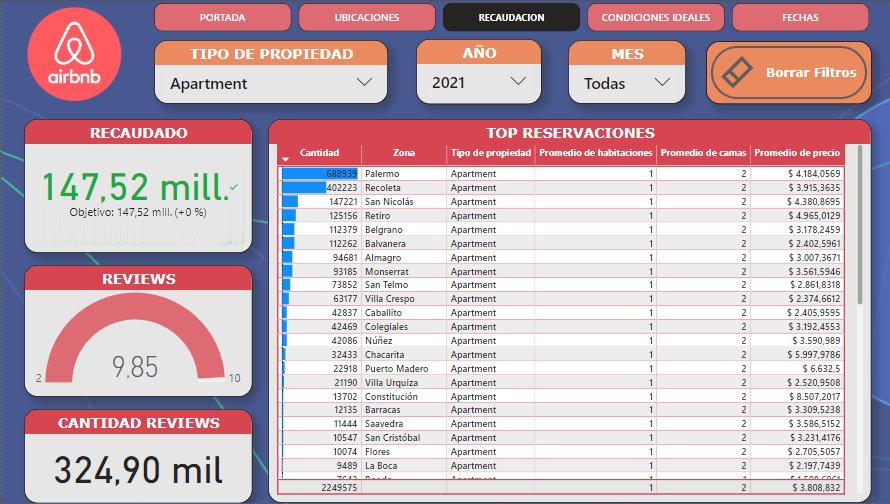

The dashboard page shown, as its layout file describes it:
{"tool":"powerbi","page":{"name":"RECAUDACION","canvas":[1280,720],"ordinal":4},"visuals":[{"type":"kpi","title":"RECAUDADO","fields":{"Indicator":["Sum(calendar.Precio)"],"TrendLine":["calendar.Precio"],"Goal":["Sum(calendar.Precio)"]},"box":[31.4,167.3,328.6,192.7],"z":0},{"type":"card","title":"CANTIDAD REVIEWS","fields":{"Values":["CountNonNull(reviews.Review_ID)"]},"box":[31.4,584,328.6,135.9],"z":1000},{"type":"tableEx","title":"TOP RESERVACIONES","fields":{"Values":["calendar.Lista_ID","listings.barrio","listings.tipo_propiedad","Avg(listings.habitaciones)","Avg(listings.camas)","Avg(listings.price)"]},"box":[382.4,167.3,869.3,552.6],"z":2000},{"type":"gauge","title":"REVIEWS","fields":{"Y":["Avg(listings.review_ubicacion)"],"MaxValue":["Max(listings.review_general)"],"MinValue":["Min(listings.review_general)"]},"box":[31.4,377.9,328.6,189.7],"z":3000},{"type":"image","box":[31.7,0,145.4,146.9],"z":4000},{"type":"slicer","title":"TIPO DE PROPIEDAD","fields":{"Values":["listings.tipo_propiedad"]},"box":[218.9,53.3,337,92.2],"z":5000},{"type":"slicer","title":"AÑO","fields":{"Values":["calendar.Fecha.Variación.Jerarquía de fechas.Año"]},"box":[596.2,51.8,181.4,93.6],"z":6000},{"type":"slicer","title":"MES","fields":{"Values":["calendar.Fecha.Variación.Jerarquía de fechas.Mes"]},"box":[815,53.3,169.9,92.2],"z":7000},{"type":"pageNavigator","box":[218.9,0,1033.9,41.8],"z":8000},{"type":"actionButton","box":[1013.8,54.7,239,90.7],"z":9000}]}

Visuals, with their boxes in screenshot pixels (x1, y1, x2, y2), scaled from the page's 1280x720 canvas onto the 890x504 screenshot:
"RECAUDADO" kpi: [22,117,250,252]
"CANTIDAD REVIEWS" card: [22,409,250,503]
"TOP RESERVACIONES" tableEx: [266,117,870,503]
"REVIEWS" gauge: [22,265,250,397]
image: [22,0,123,103]
"TIPO DE PROPIEDAD" slicer: [152,37,387,102]
"AÑO" slicer: [415,36,541,102]
"MES" slicer: [567,37,685,102]
pageNavigator: [152,0,871,29]
actionButton: [705,38,871,102]
